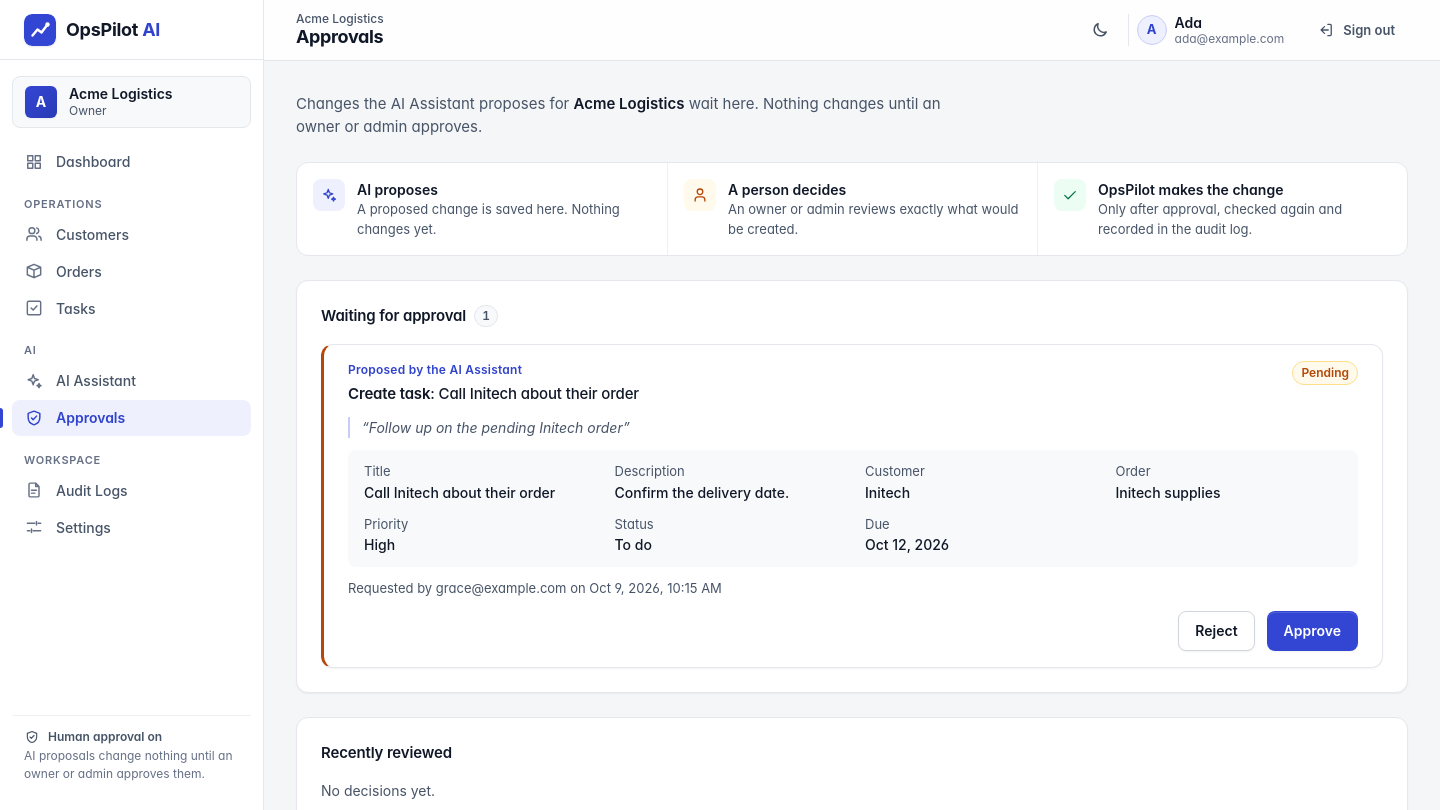
Approving › explains when the proposal is already reviewed by someone else, without claiming anything was created
Expected: the heading "Approvals" is shown, [296,26,384,49]
Click the button "Approve": (1312, 630) [1267,610,1358,650]
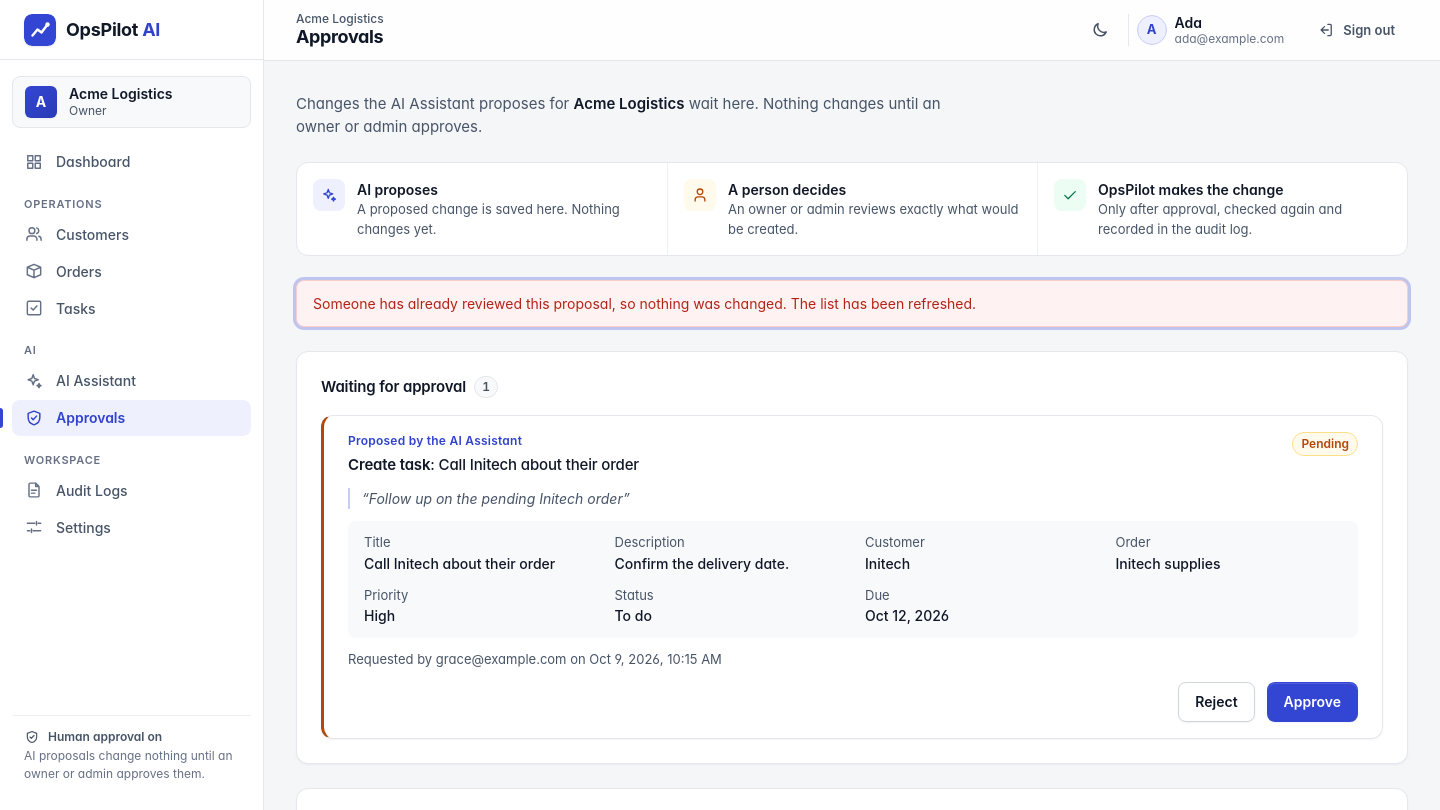
Now the message shows "Someone has already reviewed this proposal, so nothing was changed. The list has been refreshed.", box [313,295,976,312]
